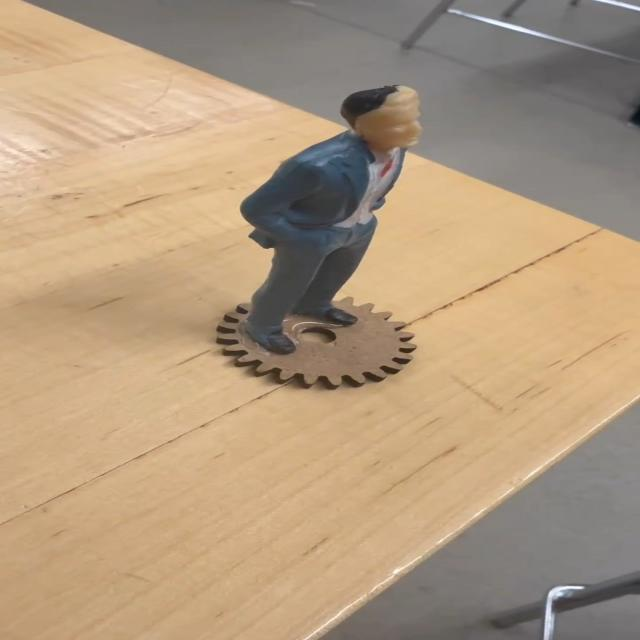Authorized: (218, 78, 480, 359)
